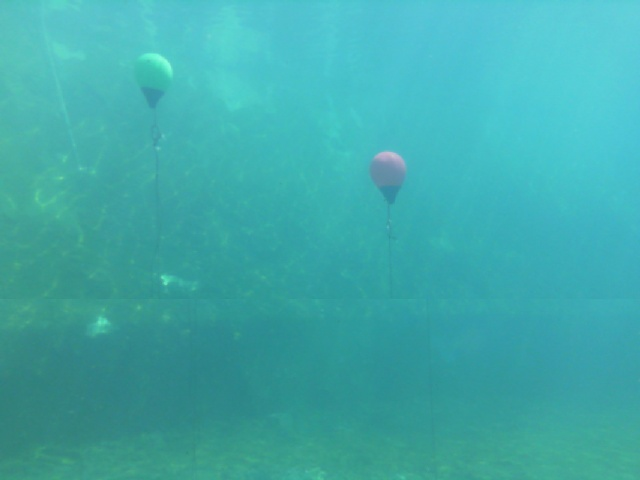buoy_green: (131, 50, 173, 110)
buoy_red: (364, 148, 411, 213)
